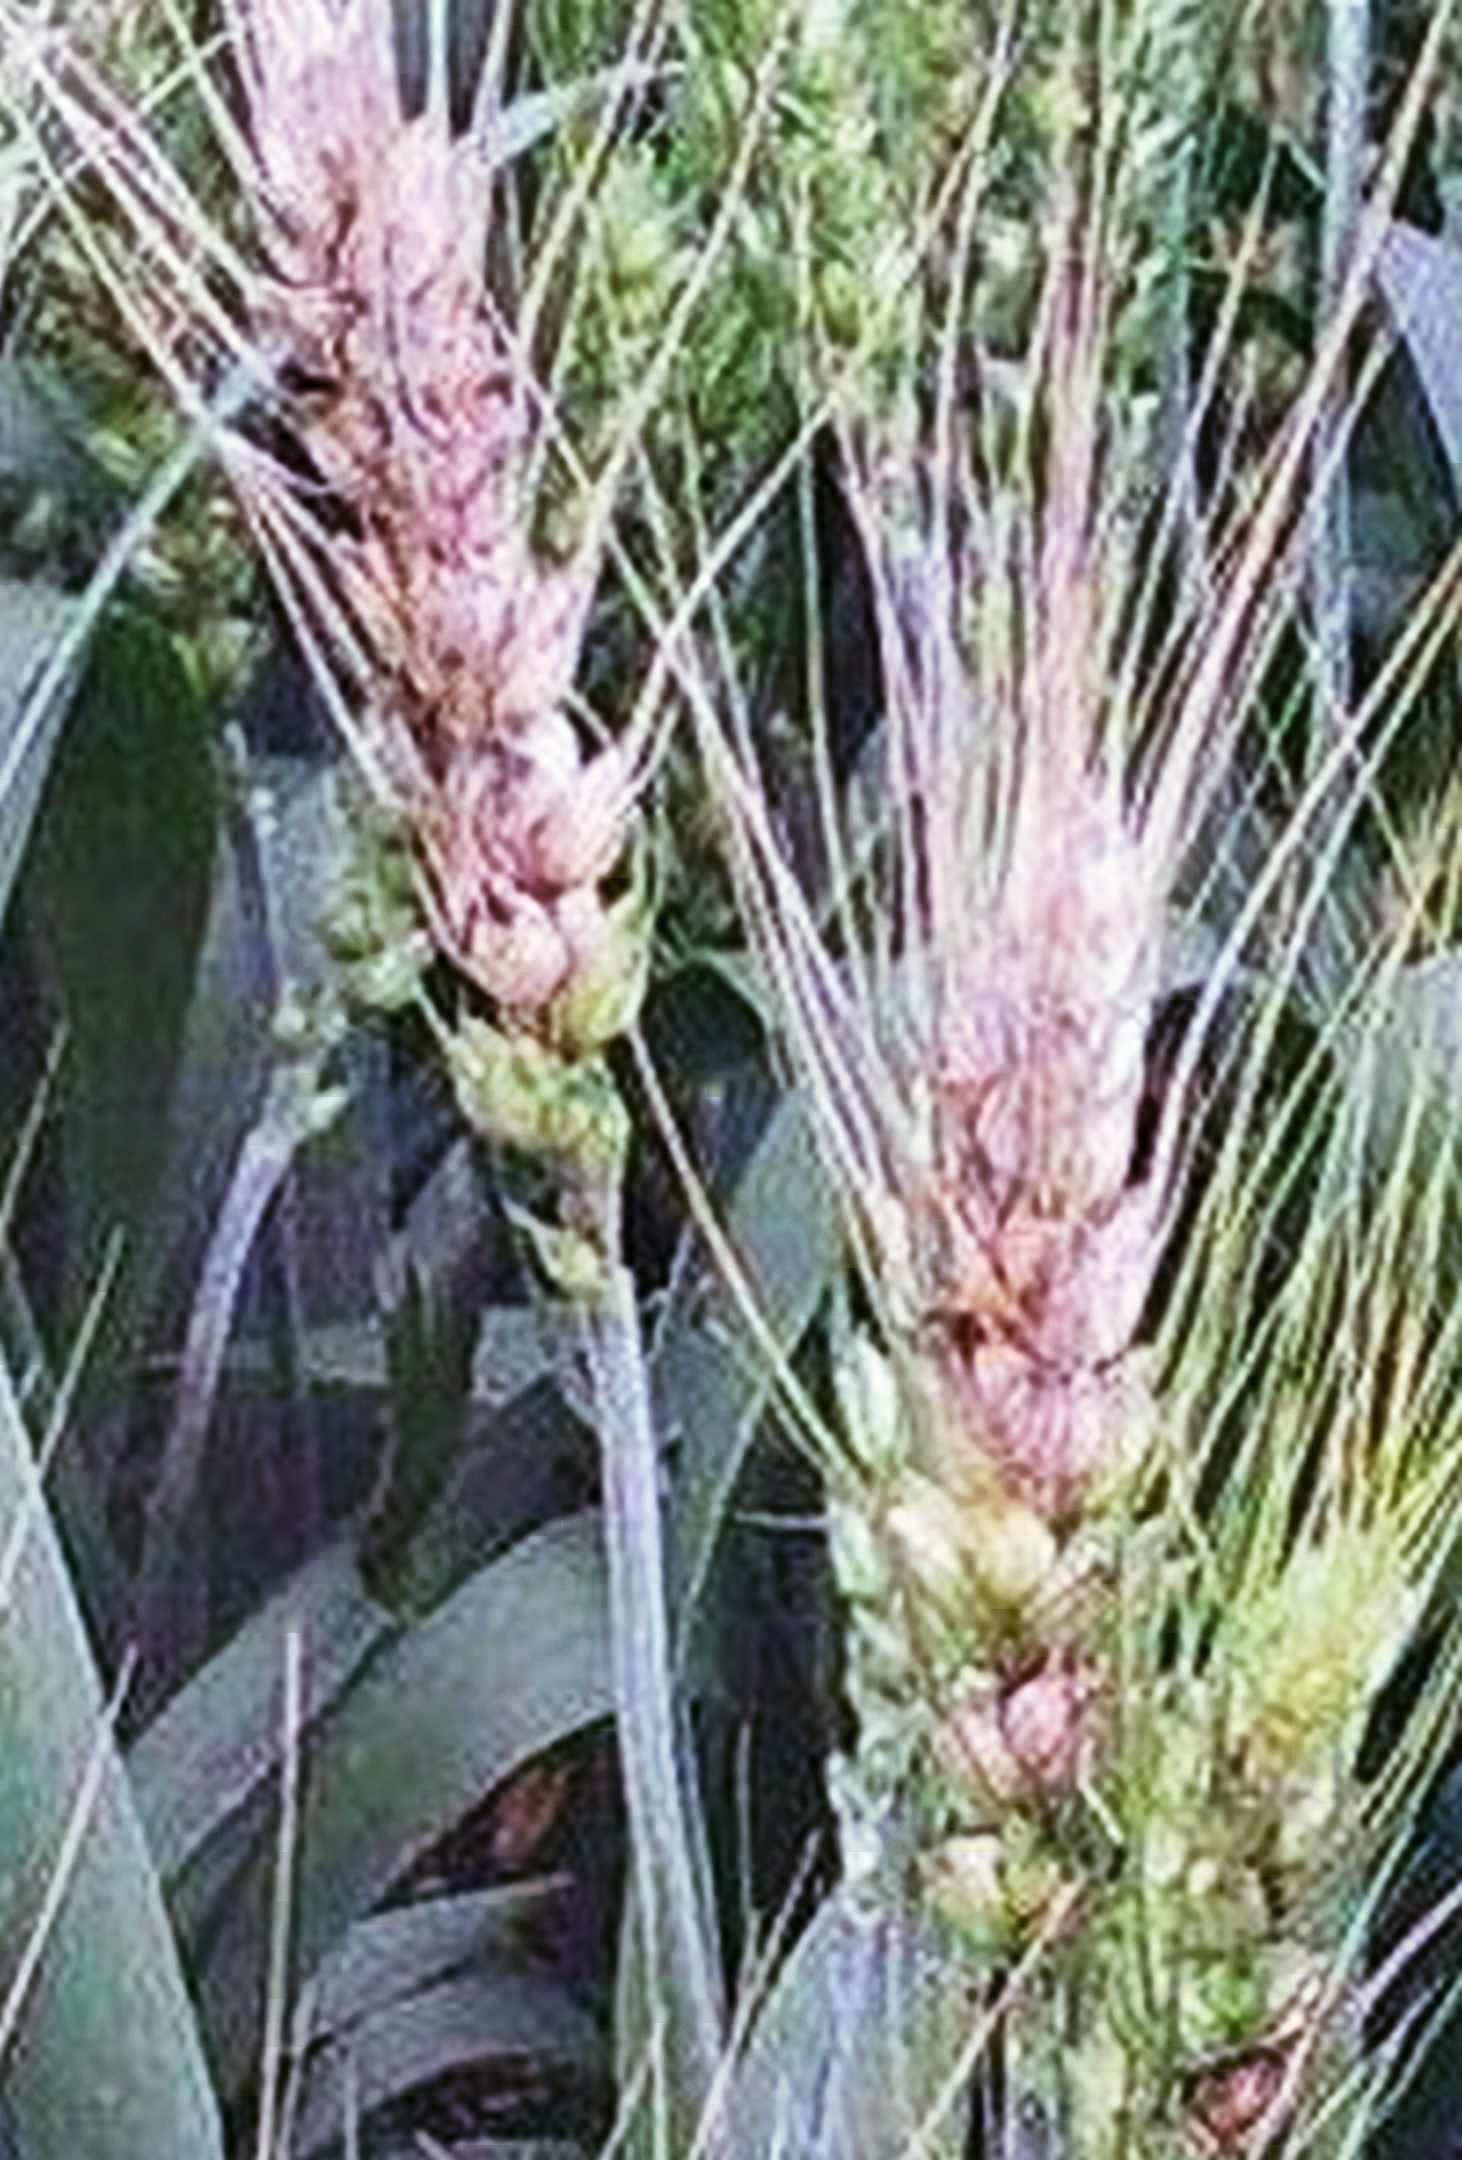Wheat scab: (248, 64, 693, 1184)
